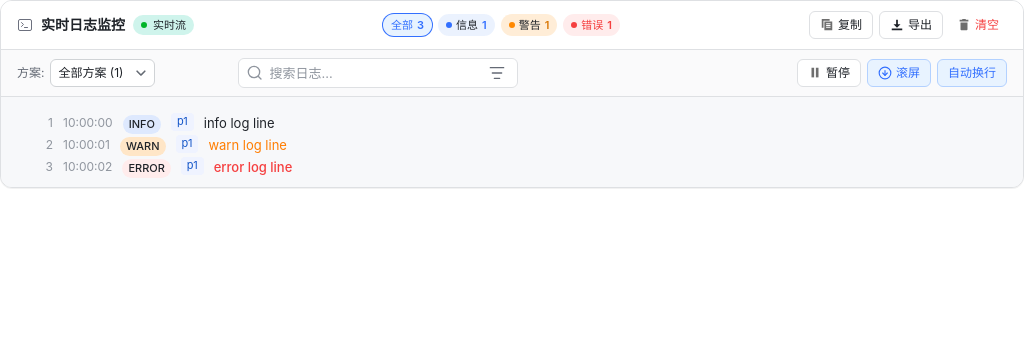
Scenario: LogDashboard (日志监控组件) › 在飞书搜索框查找设置中以色彩胶囊形式展示并可多选过滤日志等级
The width and height of the screenshot is (1024, 362).
Expected: the text "info log line" is shown, [204,115,274,131]
Expected: the text "warn log line" is shown, [208,137,287,153]
Note: 点击查找设置图标
Click the button titled "查找设置": (498,73) [486,61,510,85]
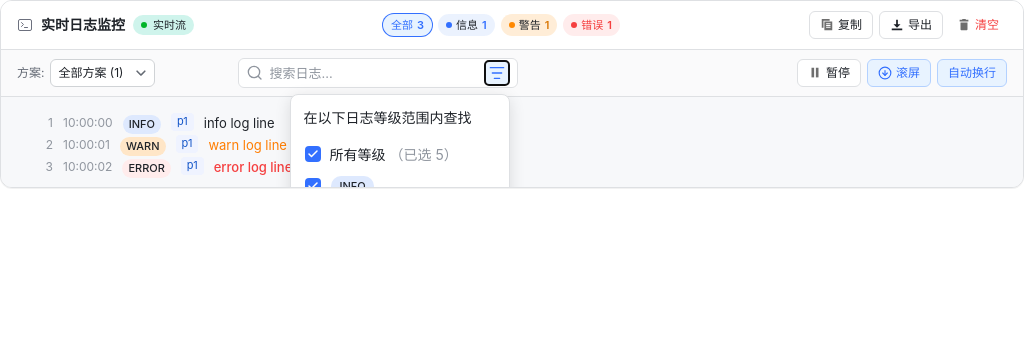
Result: the text "在以下日志等级范围内查找" is shown at [304,109,472,126]
Result: the text "INFO" below "在以下日志等级范围内查找" is shown at [340,179,366,188]
Note: 取消全选后单独选择 WARN
Click the text "所有等级": (358,154) [330,144,386,164]
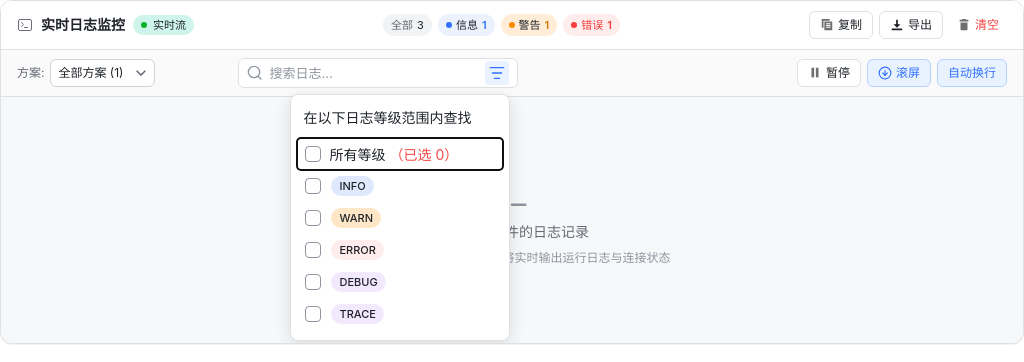
Click the button "WARN": (343,218) [306,208,381,228]
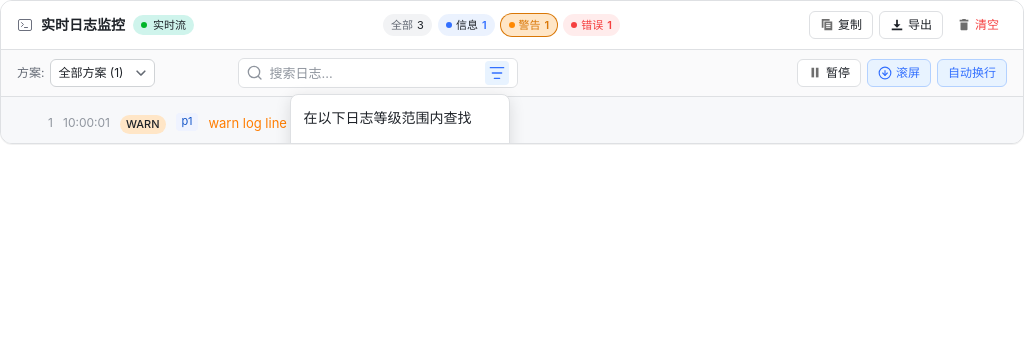
Expected: the text "info log line" is not shown
Result: the text "warn log line" is shown at [208,115,287,131]
